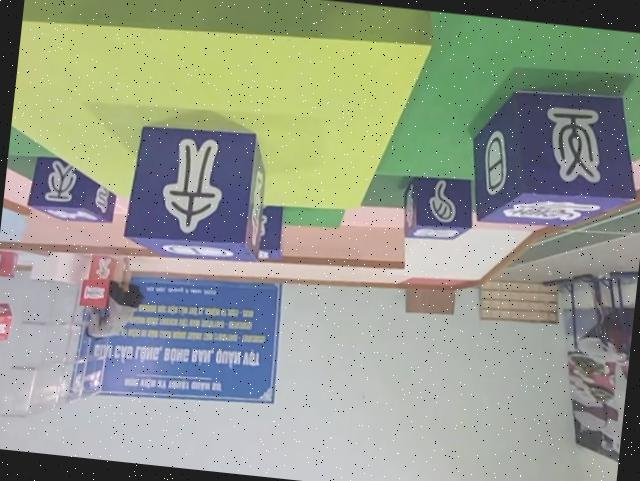R2 Fake Blue: (466, 78, 640, 235), (123, 117, 275, 265), (26, 152, 119, 224), (400, 172, 480, 244)
